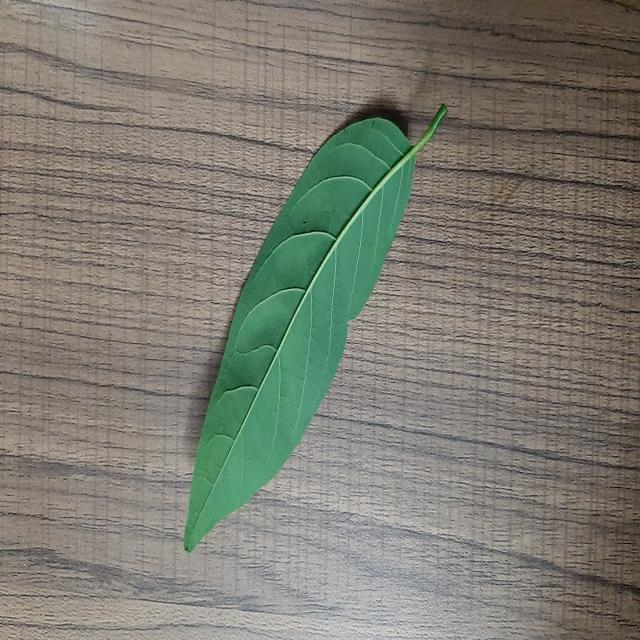seethaphala: (184, 106, 446, 550)
